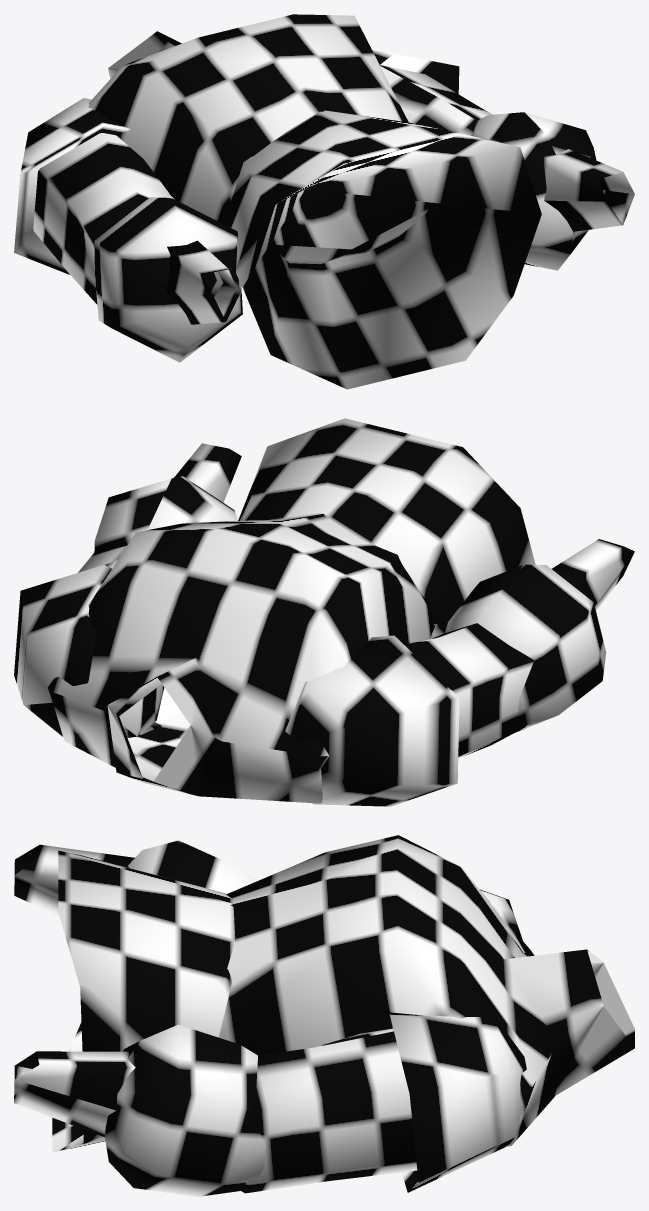
The model's file is initarpl15.dae.
3 renders of one model, top to bottom at view 1: azimuth 30°, elevation 25°; view 2: azimuth 150°, elevation 25°; view 3: azimuth 270°, elevation 25°, orthographic. The views are drawn at different scales.
Visible parts, largest first — view 1: armor; view 2: armor; view 3: armor.
Part boxes in pixels (<box>): armor: <box>14,14,634,389</box>; armor: <box>14,418,634,806</box>; armor: <box>14,835,634,1196</box>.
Size of the model in its own units: 1.74 by 1.78 by 0.7842.
Materials: 1 (1 with a texture image).
